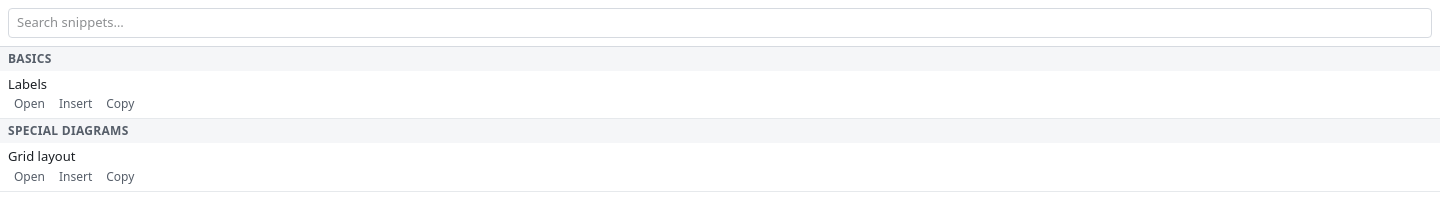
SnippetsPanel › filters as you type and says when nothing matches
In the search field labelled "Search snippets": (720, 23) [8, 8, 1432, 38], type "grid"
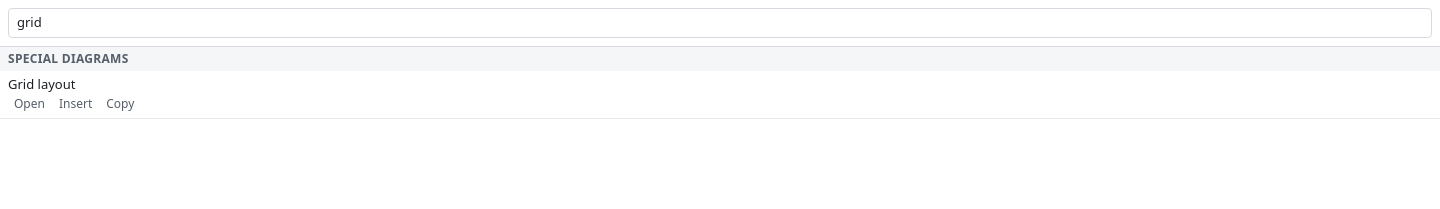
Expected: the text "Grid layout" is shown, [8, 74, 75, 92]
Now the text "Labels" is gone
Replace the text in the search field named "Search snippets" with "zzz": (720, 23) [8, 8, 1432, 38]
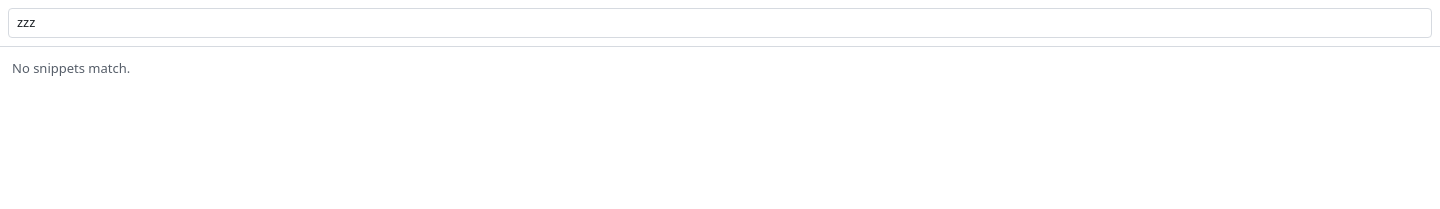
Now the text "No snippets match." is shown, box [12, 58, 130, 76]
